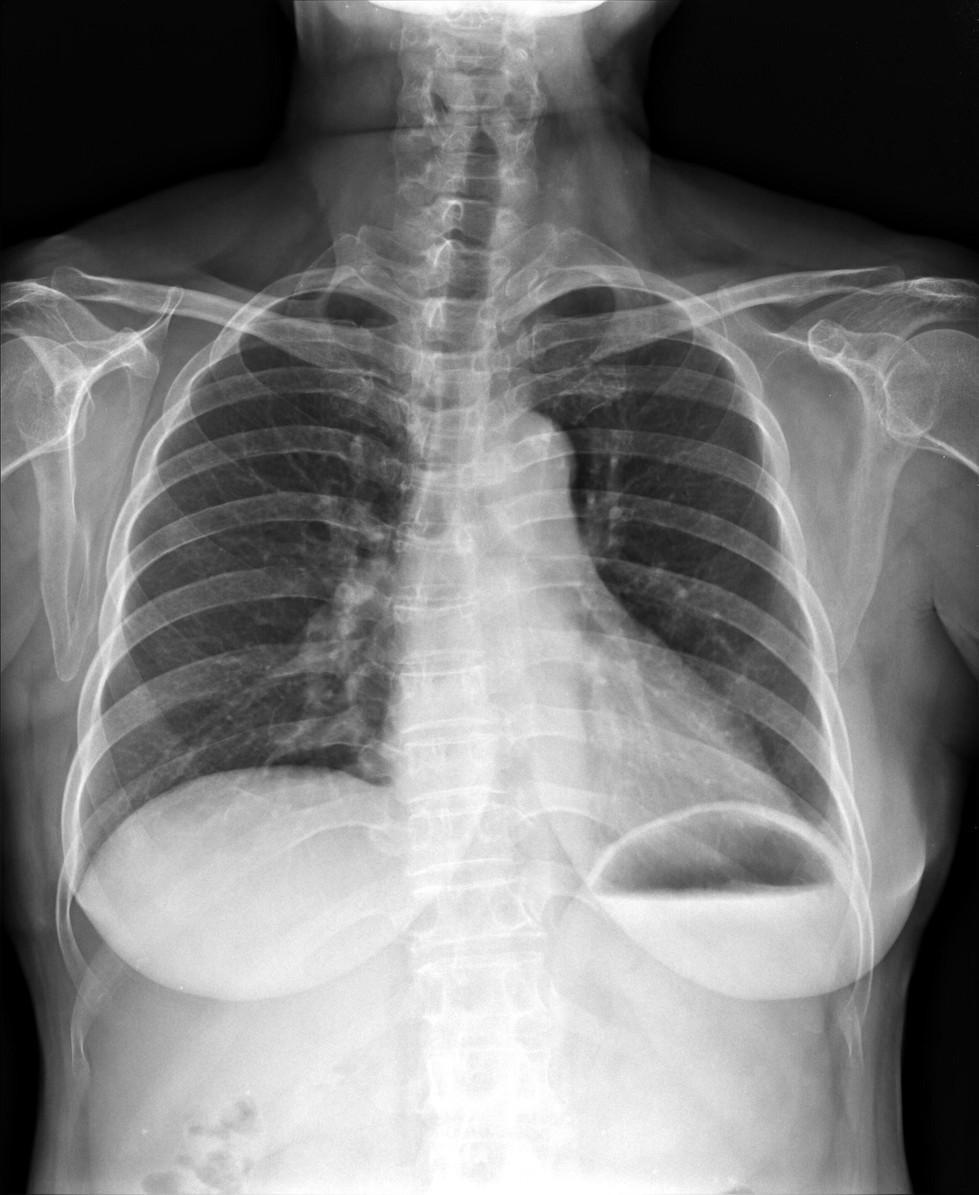Aortic enlargement: (469, 406, 577, 510)
Cardiomegaly: (379, 691, 794, 819)
